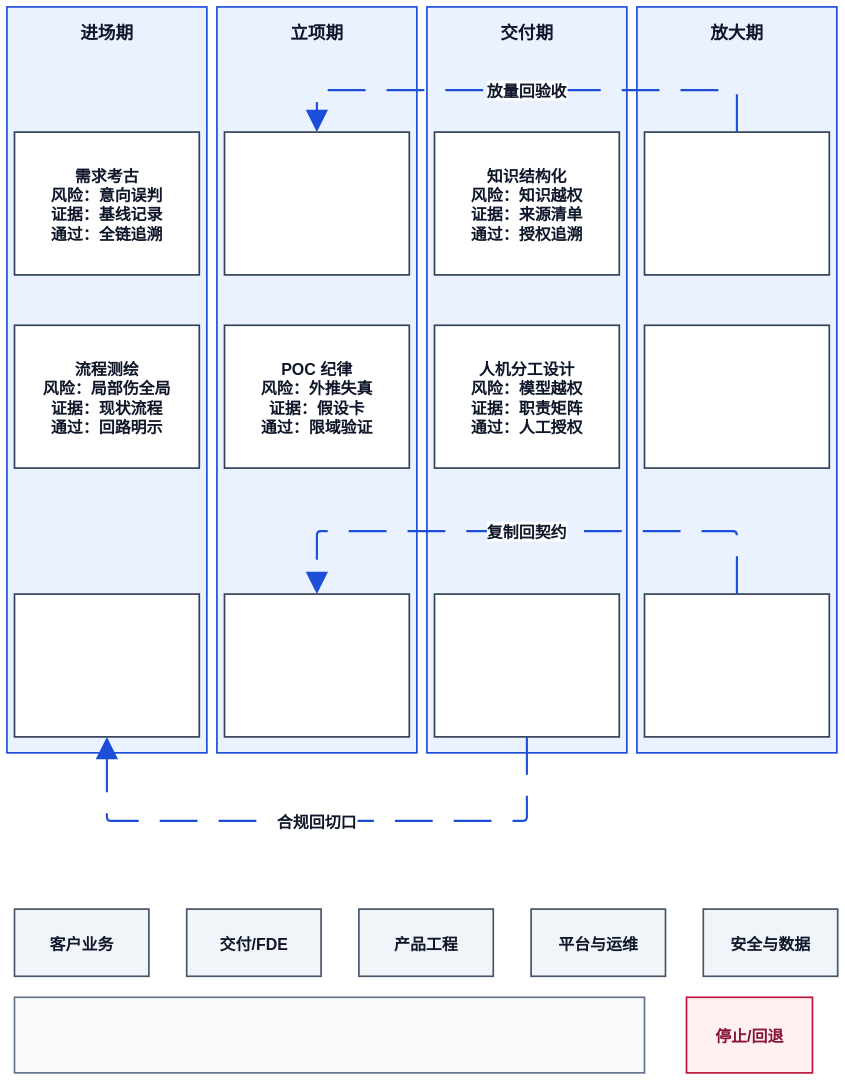
Image size: 845x1080. Some labels were removed from this diagram. Each missing label, with the centre of its shape:
"从左到右：阶段推进 虚线：未通过即返回" goes at (x=329, y=1035).
"信任运营 风险：演示冒充 证据：观测记录 通过：运行达标" goes at (x=736, y=396).
"切口选择 风险：切口失控 证据：切口评分 通过：可测可逆" goes at (x=106, y=665).
"合规与风险兜底 风险：上线暴露 证据：合规决定 通过：停机回退" goes at (x=526, y=665).
"渐进放量 风险：一次放大 证据：放量阈值 通过：阈值全过" goes at (x=736, y=203).
"职责契约 风险：责任悬空 证据：责任契约 通过：单一责任" goes at (x=316, y=665).
"资产化复制 风险：特例泛化 证据：成本上限 通过：边界许可" goes at (x=736, y=665).
"验收标准工程 风险：演示冒充 证据：验收包 通过：复现退出" goes at (x=316, y=203).
